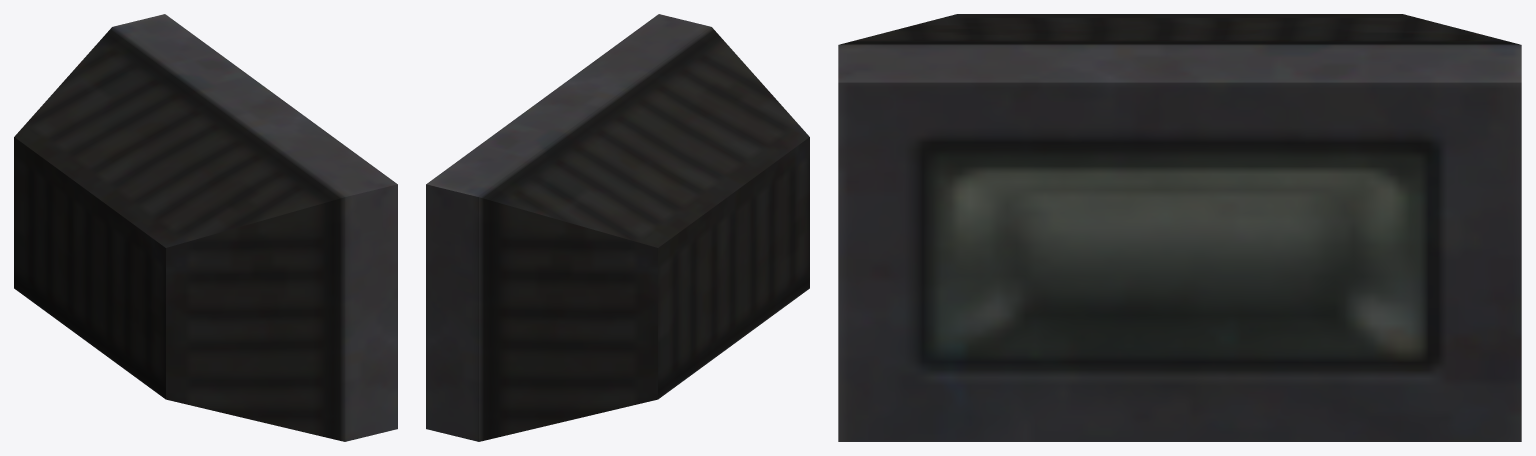
The model's file is Stage-gongchang-gaotai6.FBX.
The picture shows the model from 3 angles, left to right: view 1: azimuth 30°, elevation 25°; view 2: azimuth 150°, elevation 25°; view 3: azimuth 270°, elevation 25°; orthographic projection. The views are drawn at different scales.
Parts seen in each view (by area): view 1: Object45; view 2: Object45; view 3: Object45.
Boxes of the visible parts, x1,y1,x2,y2 form: Object45: (14, 14, 397, 441); Object45: (426, 14, 809, 441); Object45: (838, 14, 1521, 441).
Size of the model in its own units: 0.3345 by 0.7041 by 0.4086.
